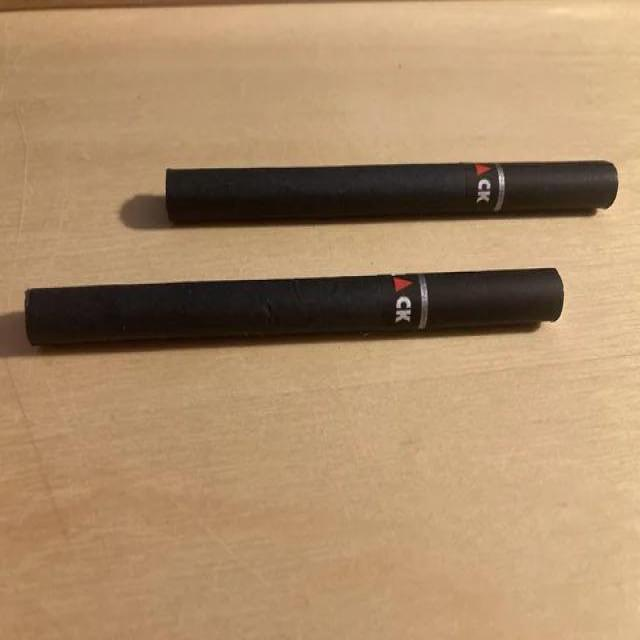cigarette: (27, 268, 566, 351), (167, 160, 621, 225)
